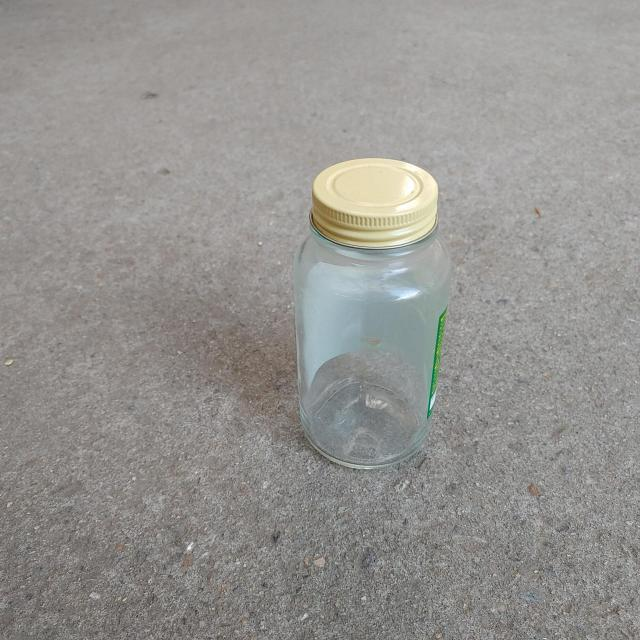glass: (294, 157, 452, 469)
